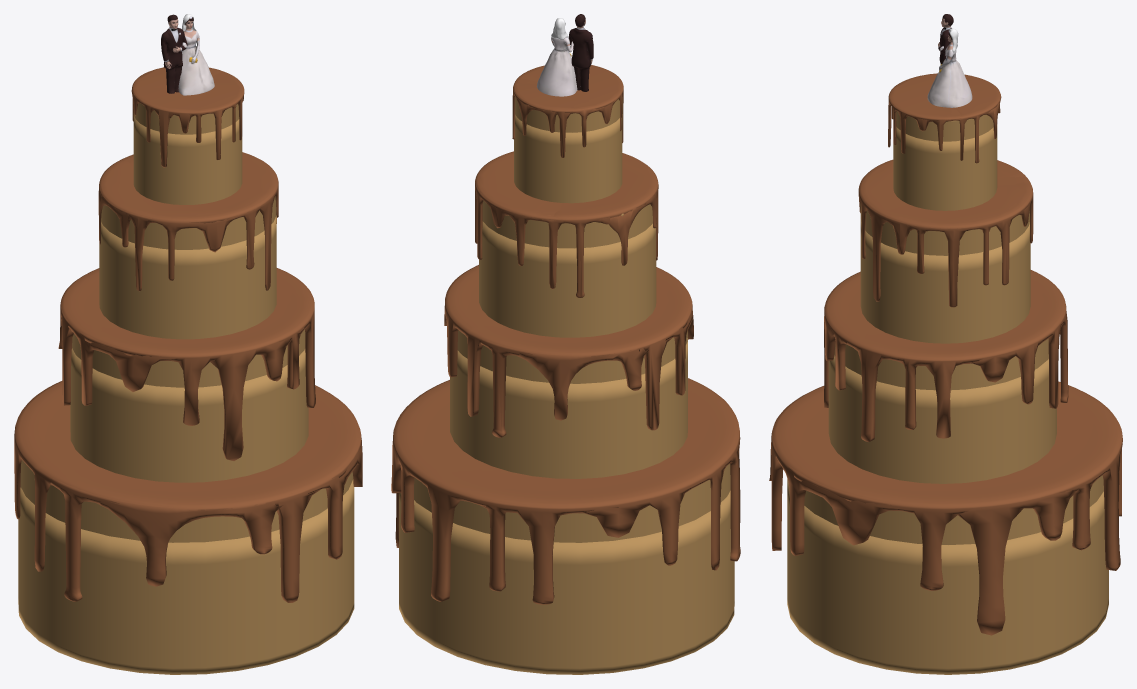
Rendered from 4-tier-caramel-ganache-bridegroom.glb.
3 views of the same model, side by side, from view 1: azimuth 30°, elevation 25°; view 2: azimuth 150°, elevation 25°; view 3: azimuth 270°, elevation 25° (orthographic).
Visible parts, largest first — view 1: 3.001, tHE ICING.008, 3, 2, tHE ICING.007, tHE ICING.006, 1, tHE ICING.009, 13501_Cake_Topper_Bride_Groom_v1_L1.001; view 2: 3.001, tHE ICING.008, 3, 2, tHE ICING.007, tHE ICING.006, 1, tHE ICING.009, 13501_Cake_Topper_Bride_Groom_v1_L1.001; view 3: 3.001, tHE ICING.008, 3, 2, tHE ICING.007, tHE ICING.006, 1, tHE ICING.009, 13501_Cake_Topper_Bride_Groom_v1_L1.001.
Part boxes in pixels (box(x1,y1,x2,y2)): 3.001: box(18, 460, 354, 674); tHE ICING.008: box(14, 381, 362, 602); 3: box(70, 329, 308, 482); 2: box(99, 196, 276, 339); tHE ICING.007: box(58, 268, 315, 460); tHE ICING.006: box(98, 152, 278, 291); 1: box(133, 103, 242, 204); tHE ICING.009: box(131, 67, 244, 167); 13501_Cake_Topper_Bride_Groom_v1_L1.001: box(161, 14, 214, 95); 3.001: box(399, 464, 734, 674); tHE ICING.008: box(391, 378, 740, 604); 3: box(450, 330, 687, 478); 2: box(479, 200, 656, 337); tHE ICING.007: box(444, 265, 693, 437); tHE ICING.006: box(475, 151, 658, 297); 1: box(514, 96, 622, 203); tHE ICING.009: box(512, 65, 623, 157); 13501_Cake_Topper_Bride_Groom_v1_L1.001: box(537, 14, 593, 96); 3.001: box(787, 475, 1108, 674); tHE ICING.008: box(769, 381, 1122, 635); 3: box(828, 338, 1056, 483); 2: box(860, 204, 1030, 343); tHE ICING.007: box(824, 270, 1068, 441); tHE ICING.006: box(858, 159, 1033, 307); 1: box(893, 111, 997, 210); tHE ICING.009: box(888, 73, 1001, 163); 13501_Cake_Topper_Bride_Groom_v1_L1.001: box(927, 14, 972, 107).
Bounding box in the file's own units: 4.52 × 8.54 × 4.69.
3 materials, 1 textured.
